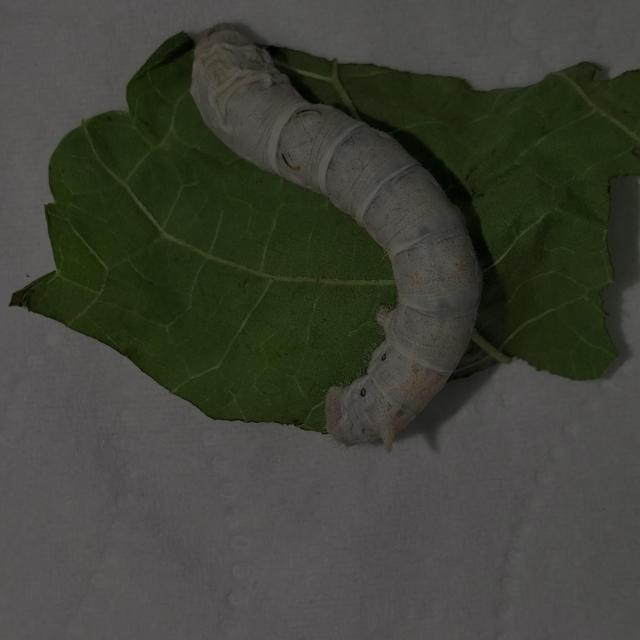Healthy: (171, 6, 495, 473)
